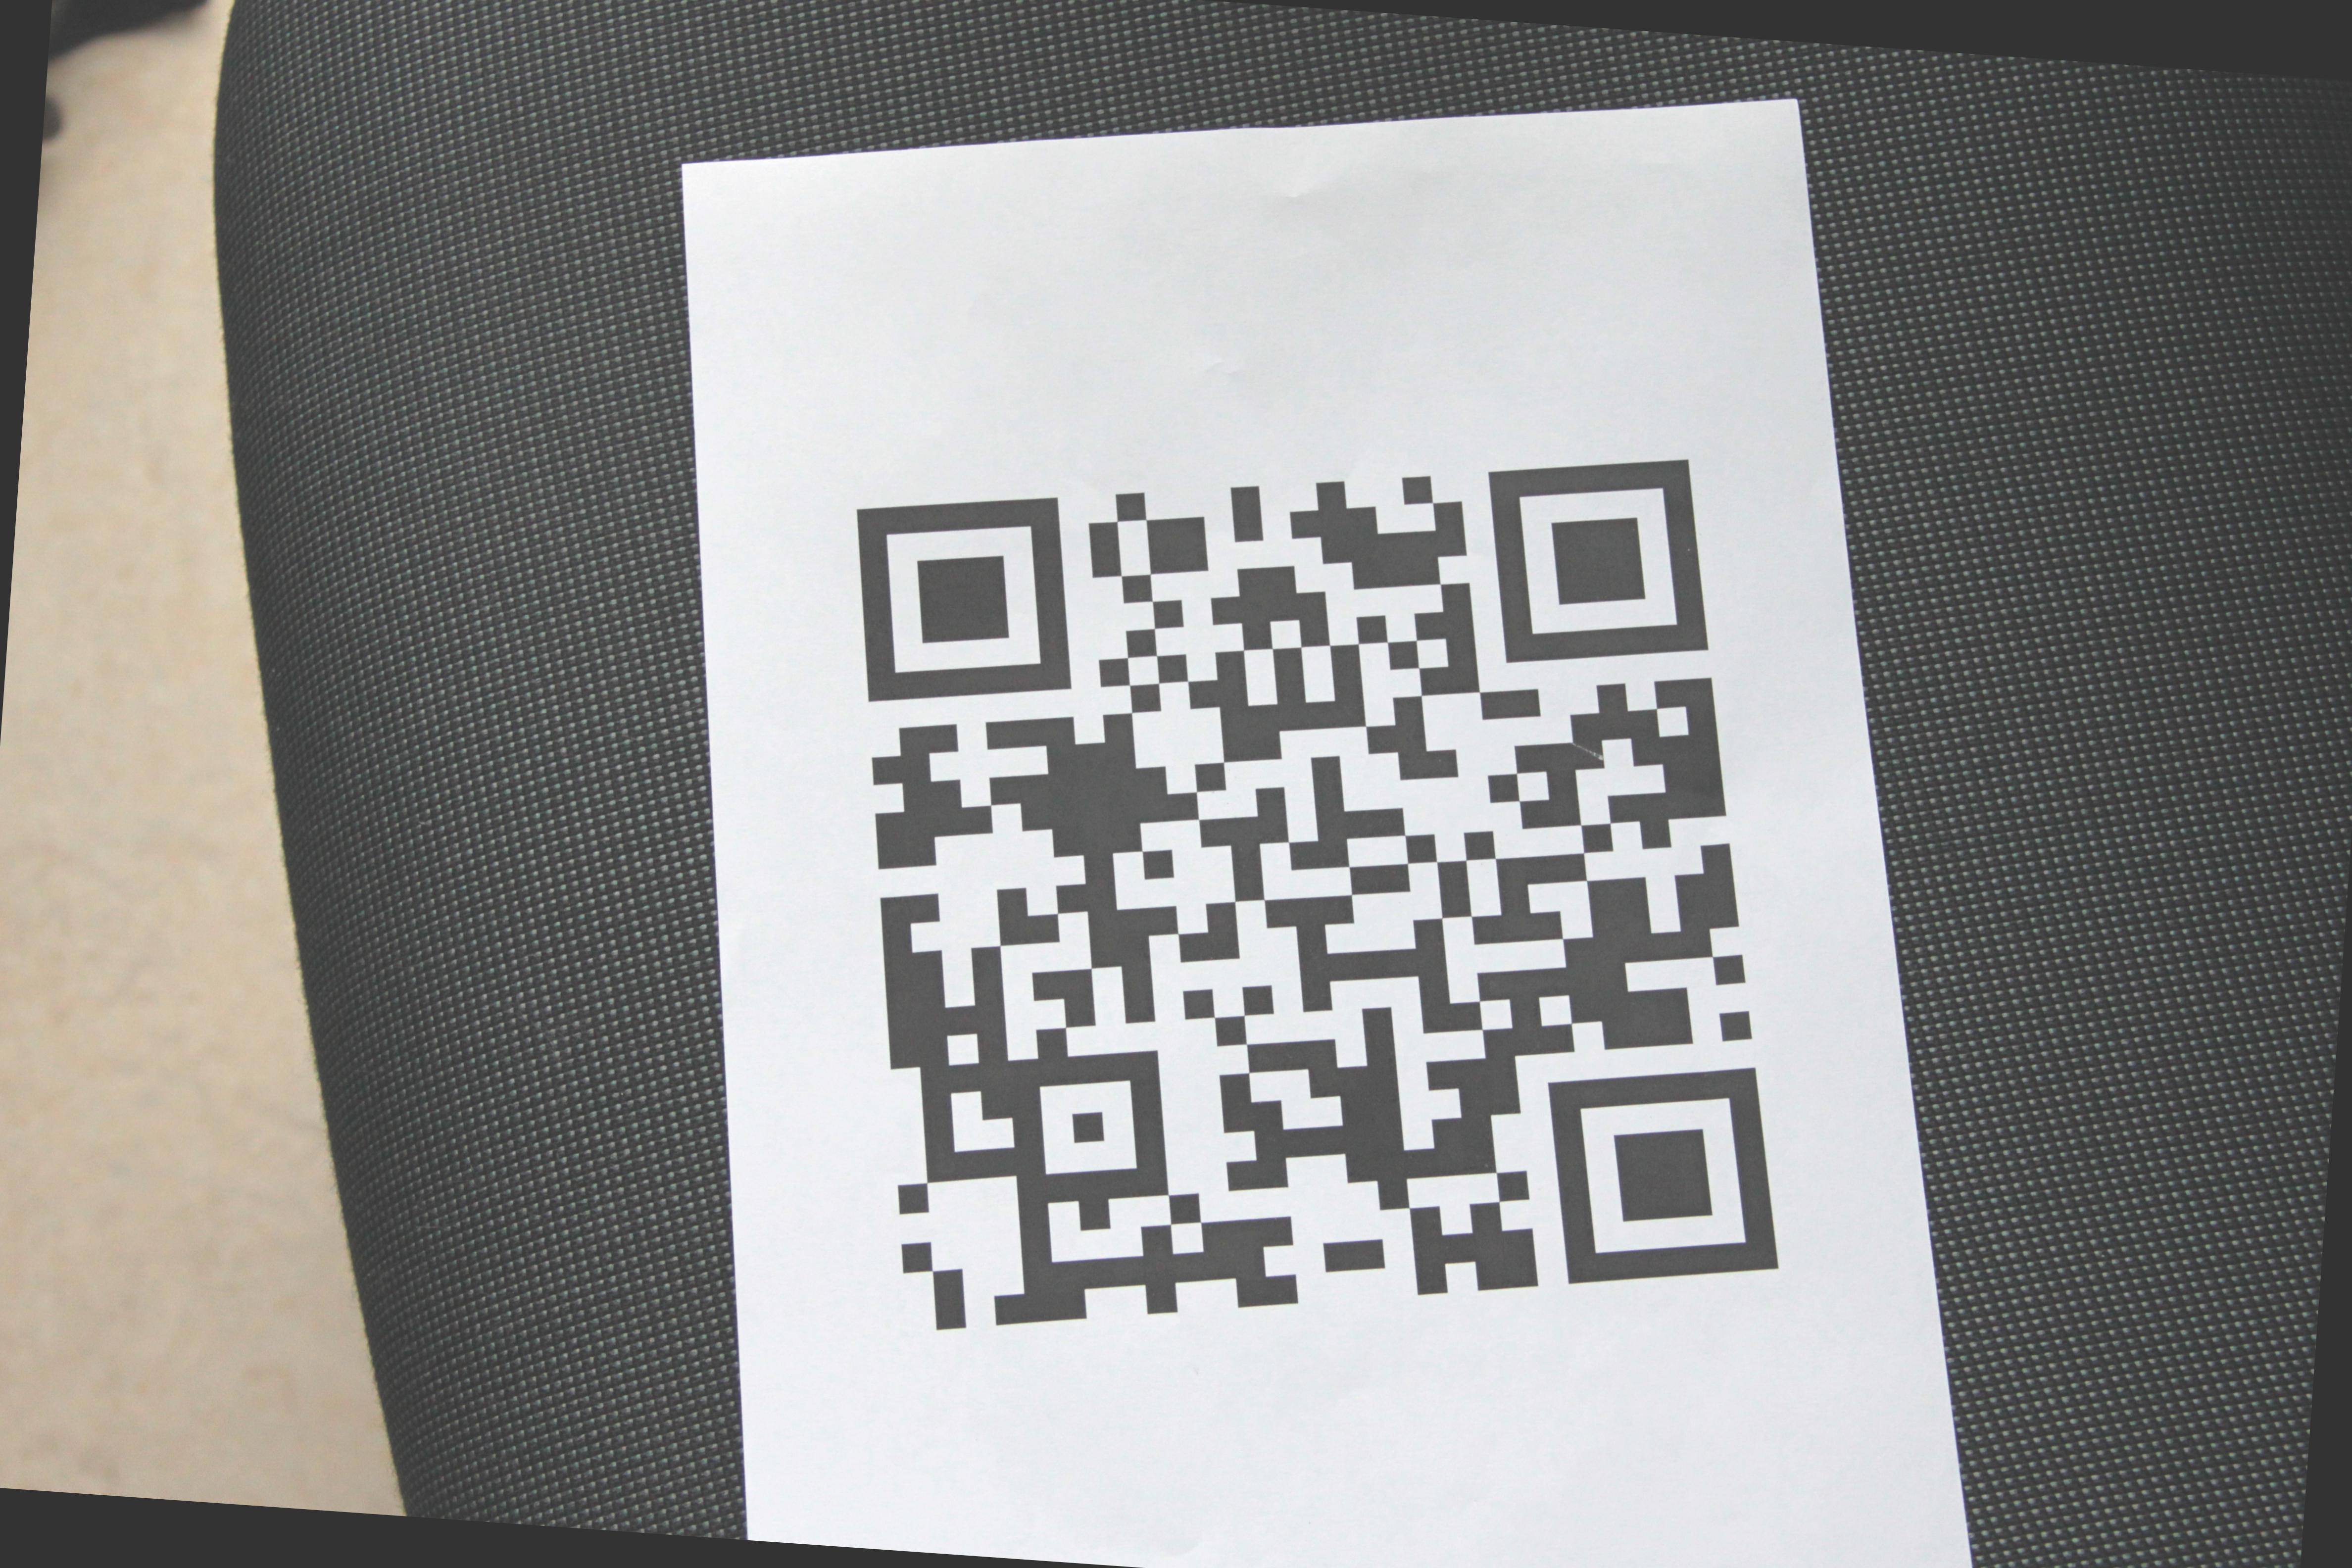QR: (856, 451, 1781, 1335)
